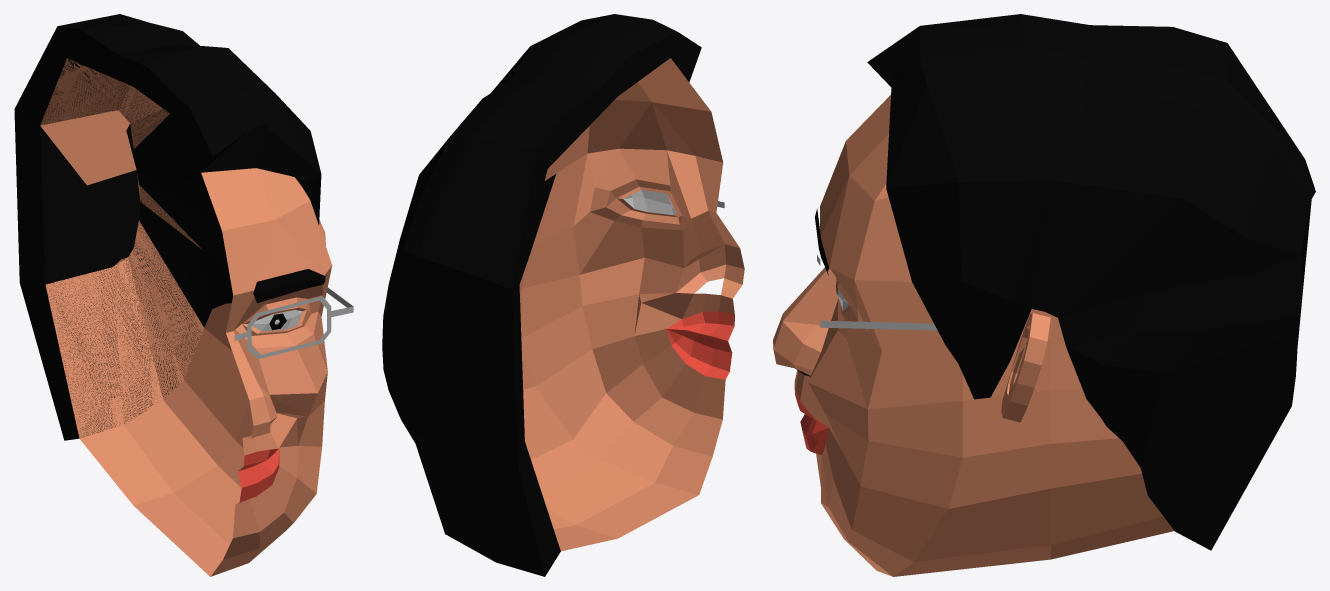
The picture shows the model from 3 angles, left to right: view 1: azimuth 30°, elevation 25°; view 2: azimuth 150°, elevation 25°; view 3: azimuth 270°, elevation 25°; orthographic projection. The views are drawn at different scales.
Visible parts, largest first — view 1: Cube, Cube.001, Plane.001, Plane; view 2: Cube, Cube.001; view 3: Cube.001, Cube, Cylinder, Plane.001.
Boxes of the visible parts, left/top/right/bottom form: Cube: left=40, top=58, right=332, bottom=576; Cube.001: left=14, top=14, right=321, bottom=440; Plane.001: left=234, top=287, right=353, bottom=358; Plane: left=253, top=269, right=325, bottom=303; Cube: left=519, top=58, right=744, bottom=551; Cube.001: left=382, top=14, right=701, bottom=576; Cube.001: left=867, top=14, right=1315, bottom=550; Cube: left=773, top=95, right=1174, bottom=576; Cylinder: left=1001, top=313, right=1050, bottom=422; Plane.001: left=817, top=255, right=937, bottom=330.
Size of the model in its own units: 0.7194 by 1.7 by 1.54.
